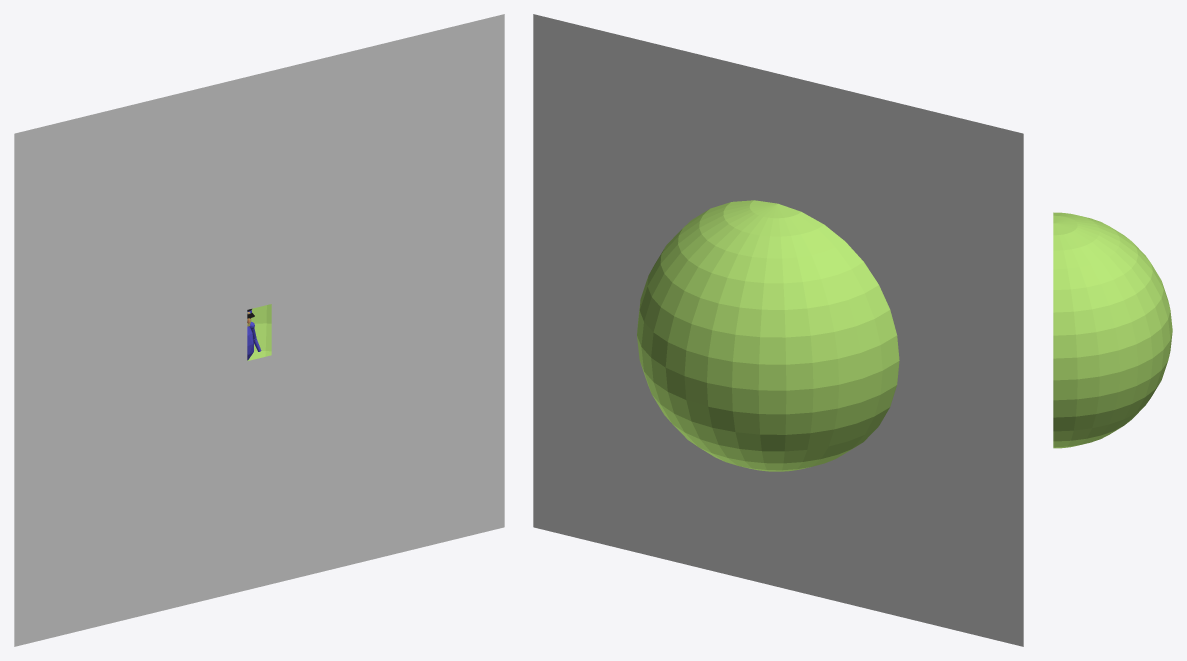
File: agent.dae
3 views of the same model, side by side, from view 1: azimuth 30°, elevation 25°; view 2: azimuth 150°, elevation 25°; view 3: azimuth 270°, elevation 25° (orthographic). The views are drawn at different scales.
Visible parts, largest first — view 1: ghost, background; view 2: ghost, background; view 3: background.
Boxes of the visible parts, bbox=[...] form: ghost: bbox=[14, 14, 504, 646]; background: bbox=[247, 304, 271, 360]; ghost: bbox=[533, 14, 1023, 646]; background: bbox=[637, 200, 899, 471]; background: bbox=[1053, 212, 1172, 448].
Bounding box in the file's own units: 20 × 5.06 × 20.
